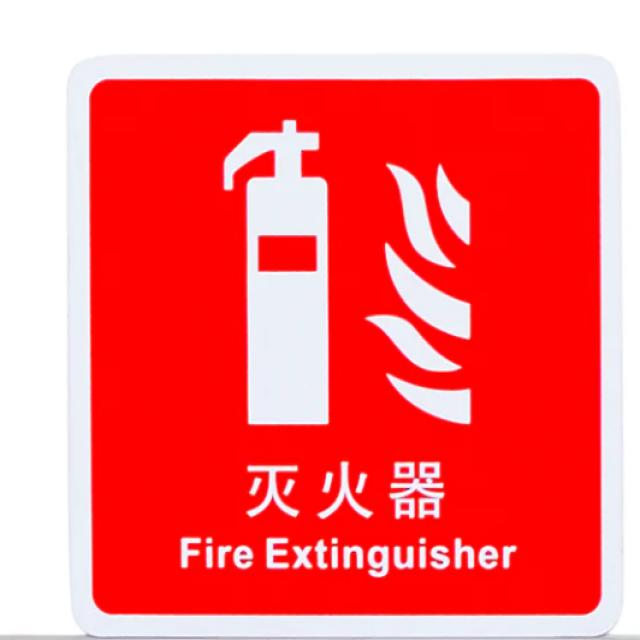fire signage: (93, 79, 612, 616), (100, 83, 596, 589)
